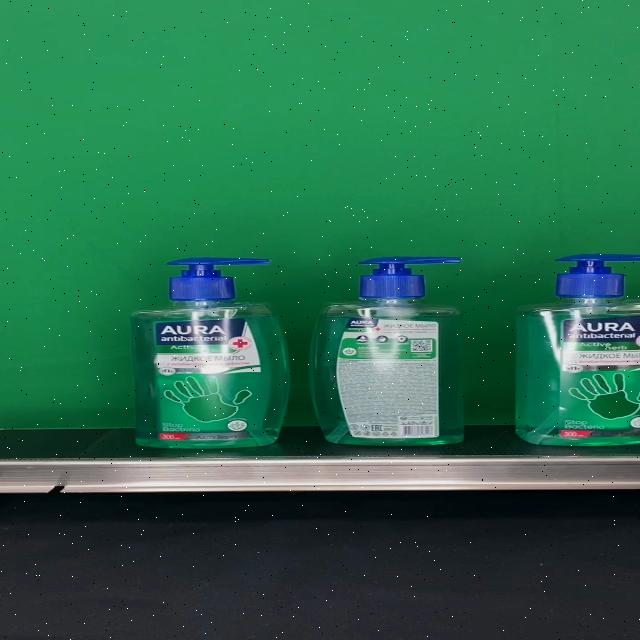Bottle: (129, 258, 290, 449), (309, 256, 465, 446), (514, 253, 640, 447)
Cap: (166, 258, 270, 300), (360, 256, 462, 298), (555, 252, 640, 297)
